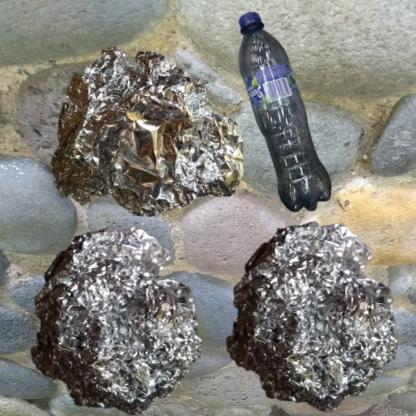aluminio: (10, 10, 287, 284), (10, 213, 219, 416), (213, 213, 407, 416)
botella: (213, 10, 362, 229)
